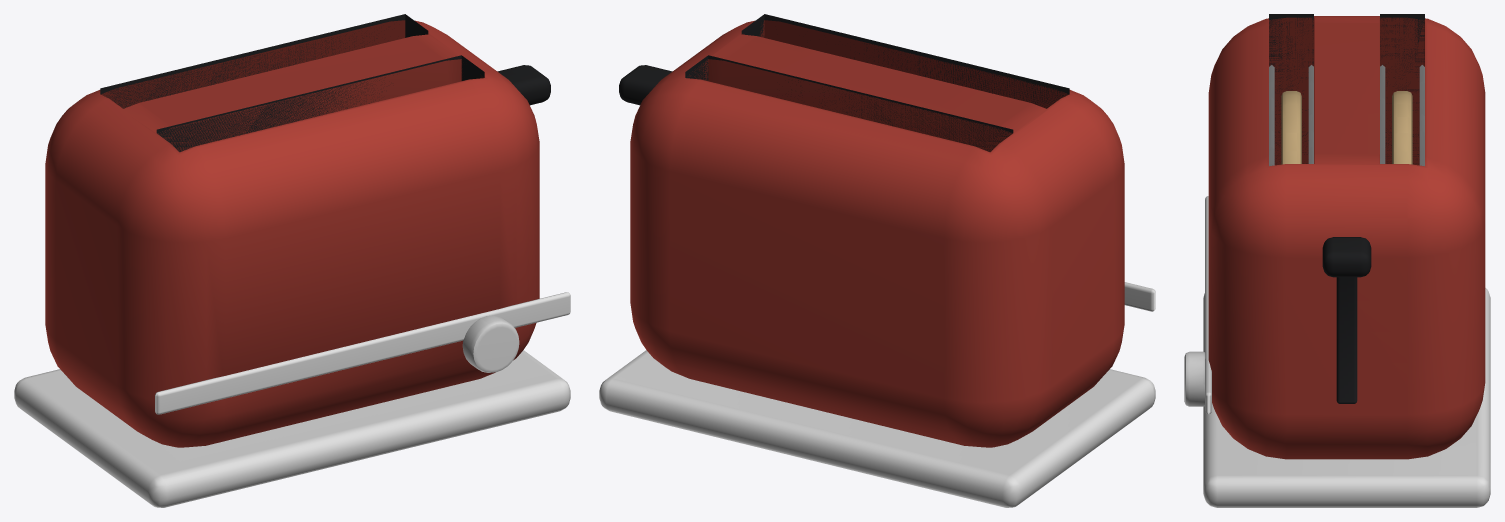
Rendered from toaster.glb.
3 renders of one model, left to right at view 1: azimuth 30°, elevation 25°; view 2: azimuth 150°, elevation 25°; view 3: azimuth 270°, elevation 25°, orthographic.
Visible parts, largest first — view 1: Body, Knob, Lever; view 2: Body, Lever; view 3: Body, Toast, Coils, Lever, Knob.
Part boxes in pixels (x1=…): Body: x1=14, y1=14, x2=570, y2=507; Knob: x1=462, y1=315, x2=519, y2=372; Lever: x1=497, y1=65, x2=550, y2=105; Body: x1=599, y1=14, x2=1155, y2=507; Lever: x1=619, y1=65, x2=672, y2=105; Body: x1=1203, y1=14, x2=1490, y2=507; Toast: x1=1281, y1=91, x2=1412, y2=164; Coils: x1=1269, y1=65, x2=1424, y2=166; Lever: x1=1322, y1=237, x2=1371, y2=277; Knob: x1=1184, y1=351, x2=1205, y2=406.
Bounding box in the file's own units: 0.302 × 0.209 × 0.177.
